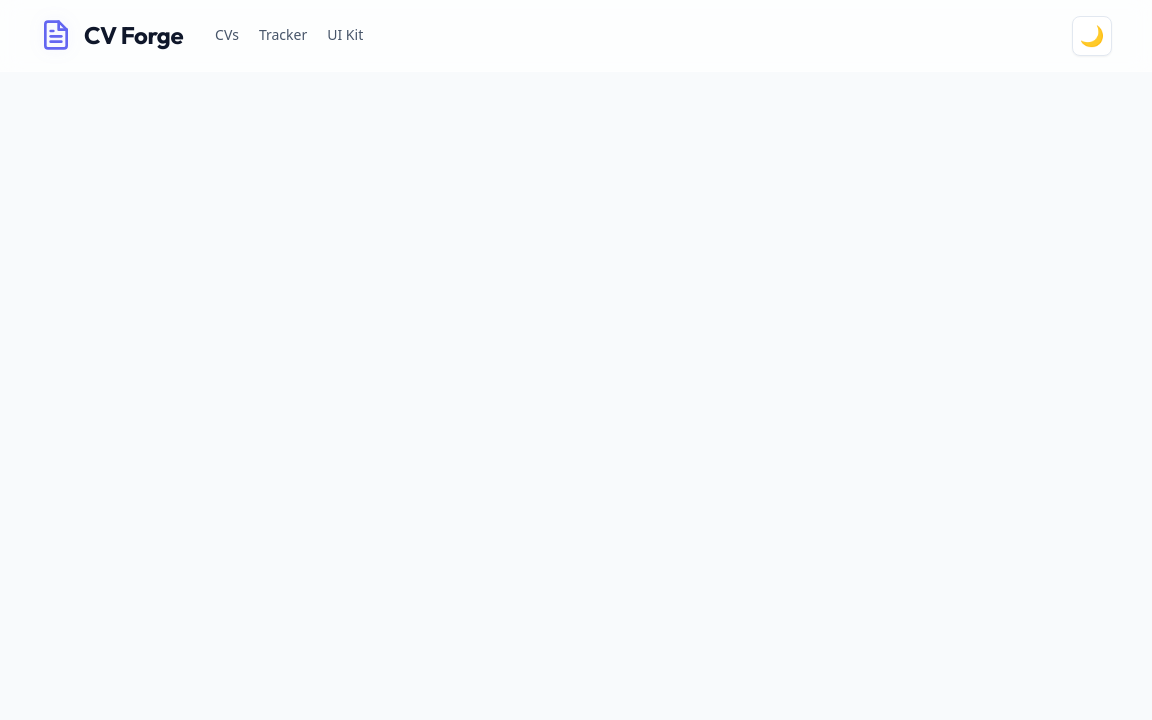
Test: Feature: Header Theme Toggle › Scenario: User toggles theme from light to dark
# When the user clicks the theme toggle button
Click the button titled "Toggle theme". click: coordinates (1092, 36)
box: [1072,16,1112,56]
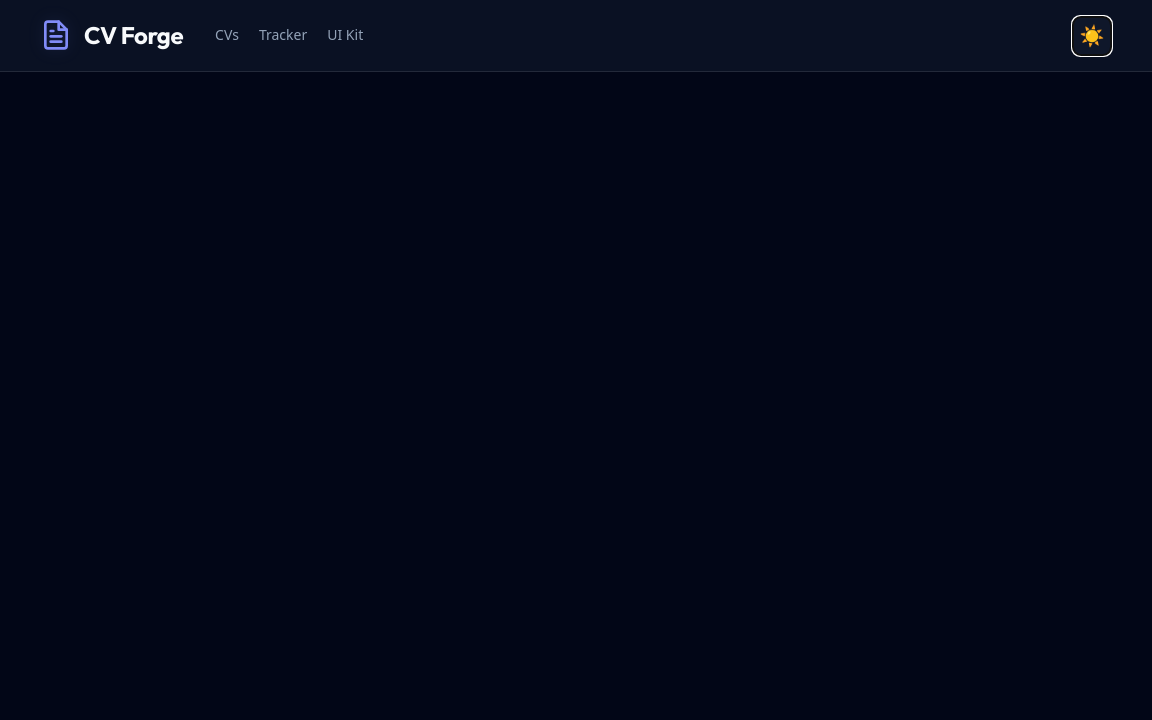
Expected: the button titled "Toggle theme" reads "☀️", [1072,16,1112,56]
